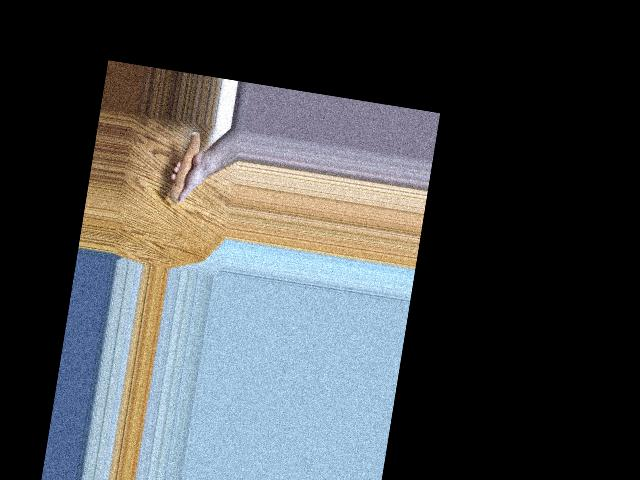sweet_potato: (167, 126, 205, 205)
